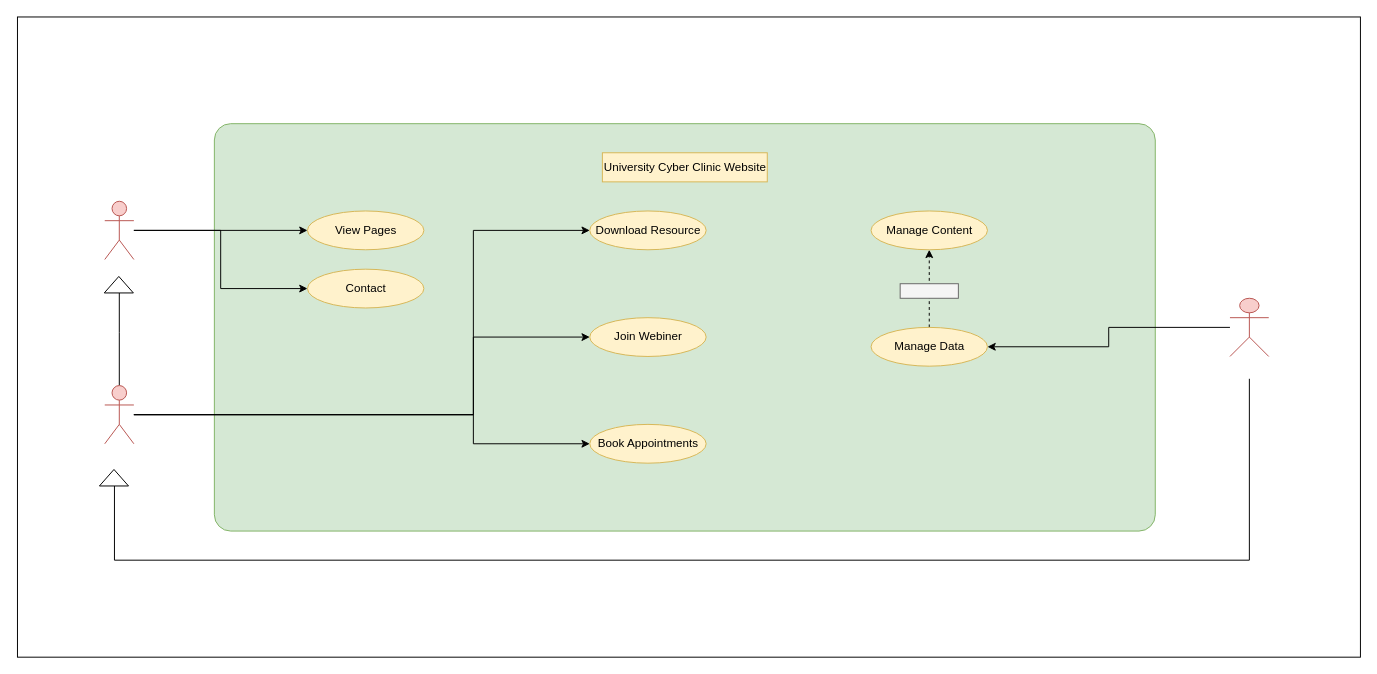
This 1377x674 diagram has some shape labels left out. The centre of each missing label's shape, as x and y in pixels:
"<<includes>>" belongs at [928,290].
"Adminestetor" belongs at [1249,326].
"Registered Member" belongs at [119,414].
"Visitor" belongs at [119,229].
